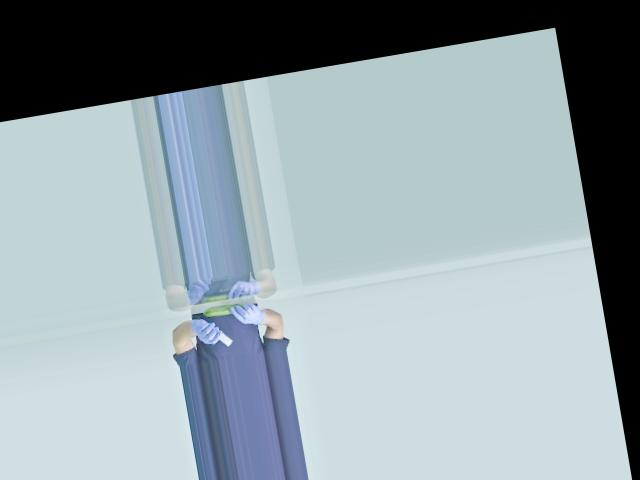cucumber: (202, 302, 242, 318)
